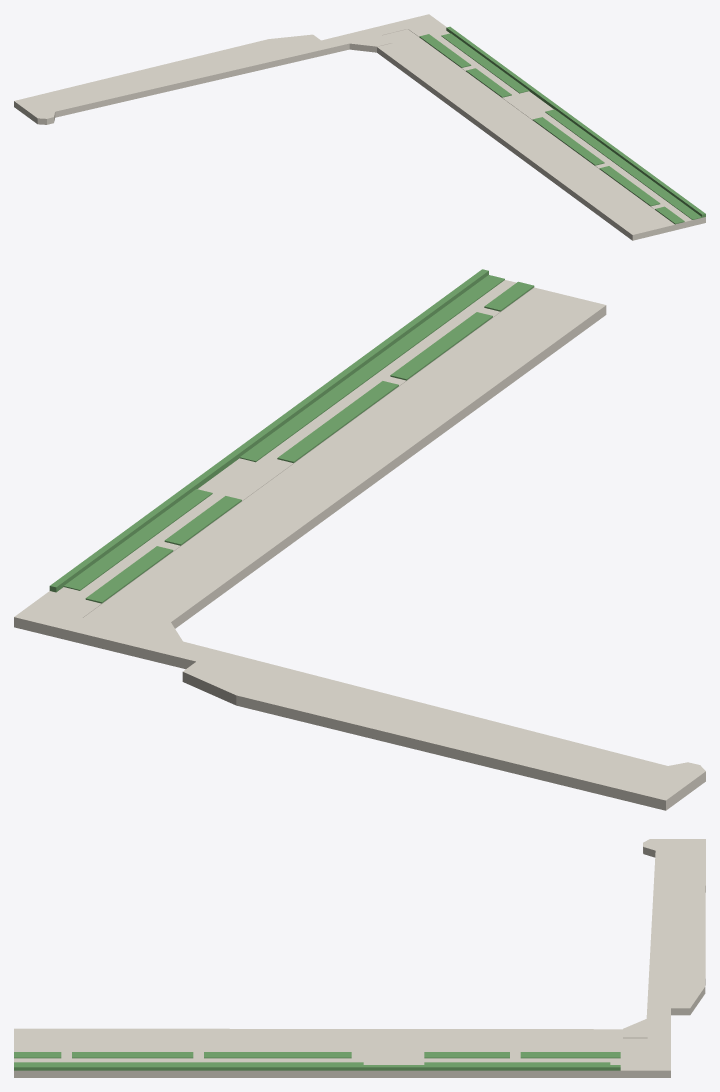
The model's file is SM_Blockout_Passeggiata_Pav_v3.fbx.
3 views of the same model, one above another, from view 1: azimuth 30°, elevation 25°; view 2: azimuth 150°, elevation 25°; view 3: azimuth 270°, elevation 25° (orthographic). The views are drawn at different scales.
Parts seen in each view (by area): view 1: SM_Blockout_PassPav_v3_Lastra, SM_Blockout_PassPav_v3_Molo, SM_Blockout_PassPav_v3_Aiuole, SM_Blockout_PassPav_v3_SiepeLimite; view 2: SM_Blockout_PassPav_v3_Lastra, SM_Blockout_PassPav_v3_Molo, SM_Blockout_PassPav_v3_Aiuole, SM_Blockout_PassPav_v3_SiepeLimite; view 3: SM_Blockout_PassPav_v3_Lastra, SM_Blockout_PassPav_v3_Molo, SM_Blockout_PassPav_v3_Aiuole, SM_Blockout_PassPav_v3_SiepeLimite.
Part boxes in pixels (<box>): SM_Blockout_PassPav_v3_Lastra: <box>321,14,705,240</box>; SM_Blockout_PassPav_v3_Molo: <box>14,34,331,124</box>; SM_Blockout_PassPav_v3_Aiuole: <box>419,33,701,224</box>; SM_Blockout_PassPav_v3_SiepeLimite: <box>446,26,705,217</box>; SM_Blockout_PassPav_v3_Lastra: <box>14,280,606,669</box>; SM_Blockout_PassPav_v3_Molo: <box>182,649,705,810</box>; SM_Blockout_PassPav_v3_Aiuole: <box>63,275,534,603</box>; SM_Blockout_PassPav_v3_SiepeLimite: <box>49,269,488,592</box>; SM_Blockout_PassPav_v3_Lastra: <box>14,1008,670,1077</box>; SM_Blockout_PassPav_v3_Molo: <box>643,839,705,1015</box>; SM_Blockout_PassPav_v3_Aiuole: <box>14,1052,620,1064</box>; SM_Blockout_PassPav_v3_SiepeLimite: <box>14,1065,620,1070</box>.
Size of what is drawn, in the model's own units: 20780 by 26230 by 450.
